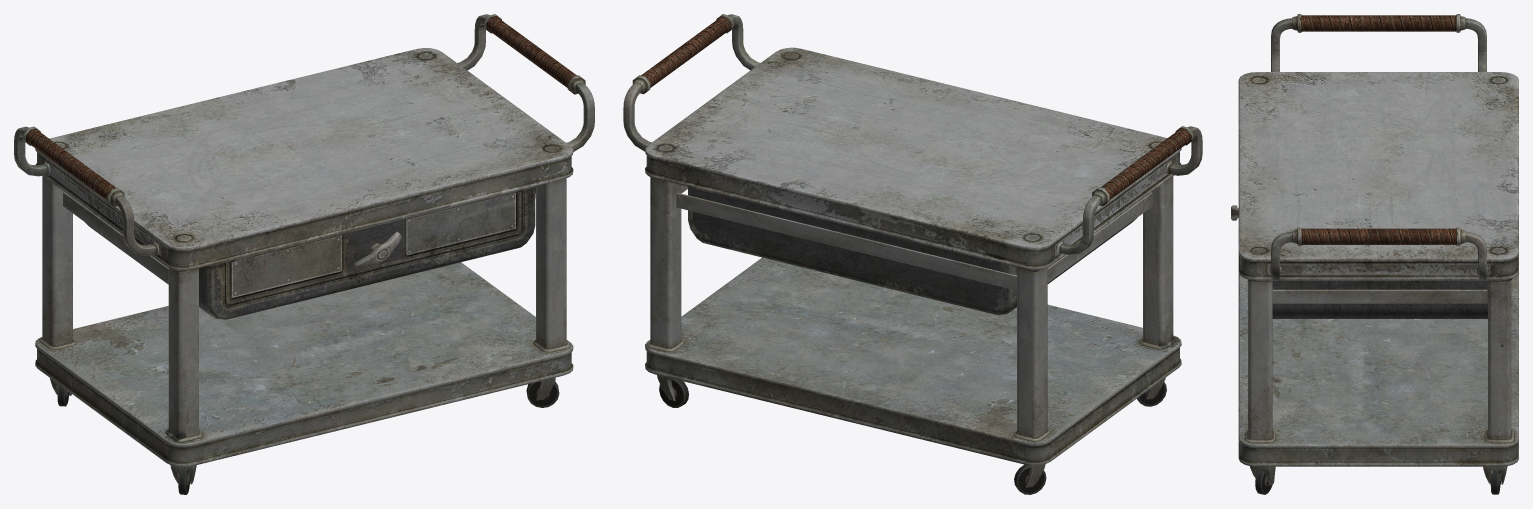
The model's file is prop_bench_work.fbx.
3 views of the same model, side by side, from view 1: azimuth 30°, elevation 25°; view 2: azimuth 150°, elevation 25°; view 3: azimuth 270°, elevation 25° (orthographic). The views are drawn at different scales.
Parts seen in each view (by area): view 1: prop_bench_work_001; view 2: prop_bench_work_001; view 3: prop_bench_work_001.
Boxes of the visible parts, x1,y1,x2,y2 form: prop_bench_work_001: (14, 14, 594, 494); prop_bench_work_001: (623, 14, 1202, 494); prop_bench_work_001: (1231, 14, 1518, 494).
Size of the model in its own units: 232 by 141 by 128.
